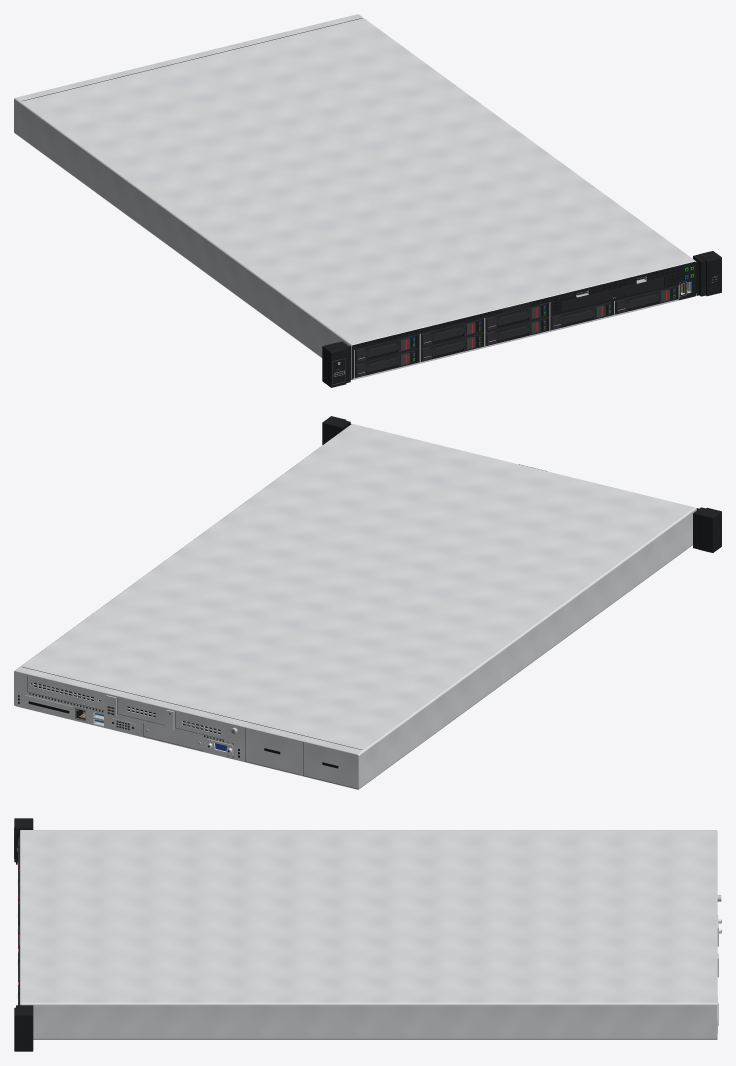
File: ProLiant_DL360_Gen10_Plus.glb
3 views of the same model, one above another, from view 1: azimuth 30°, elevation 25°; view 2: azimuth 150°, elevation 25°; view 3: azimuth 270°, elevation 25° (orthographic). The views are drawn at different scales.
Visible parts, largest first — view 1: Shell; view 2: Shell, Rear, empty:PSU2, empty:PSU1, empty:PCIe1, empty:OCP3, empty:PCIe3, empty:PCIe2; view 3: Shell.
Boxes of the visible parts, x1=… form: Shell: x1=14, y1=14, x2=721, y2=387; Shell: x1=14, y1=416, x2=721, y2=789; Rear: x1=14, y1=671, x2=358, y2=789; empty:PSU2: x1=245, y1=728, x2=299, y2=774; empty:PSU1: x1=303, y1=742, x2=357, y2=788; empty:PCIe1: x1=28, y1=676, x2=104, y2=710; empty:OCP3: x1=144, y1=723, x2=202, y2=750; empty:PCIe3: x1=176, y1=712, x2=224, y2=739; empty:PCIe2: x1=117, y1=698, x2=164, y2=724; Shell: x1=14, y1=818, x2=717, y2=1051.
Size of the model in its own units: 0.492 by 0.0431 by 0.7469.
23 materials, 5 textured.
